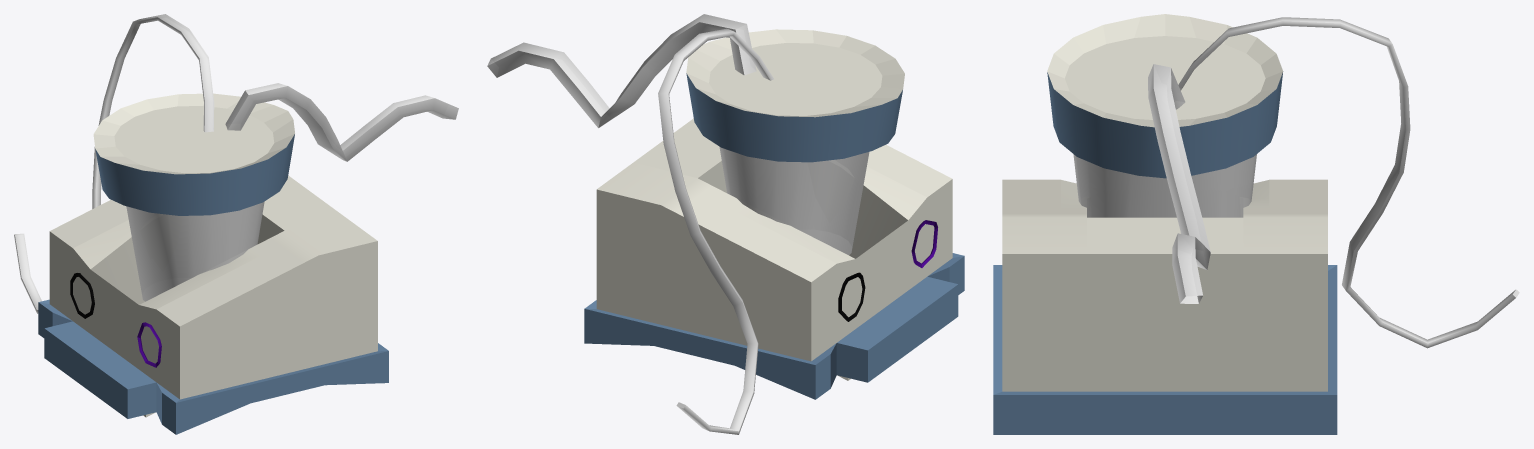
Rendered from aspiradora_secreciones.fbx.
The picture shows the model from 3 angles, left to right: view 1: azimuth 30°, elevation 25°; view 2: azimuth 150°, elevation 25°; view 3: azimuth 270°, elevation 25°; orthographic projection. The views are drawn at different scales.
Visible parts, largest first — view 1: aspirador_secreciones; view 2: aspirador_secreciones; view 3: aspirador_secreciones.
Boxes of the visible parts, box(x1,y1,x2,y2) form: aspirador_secreciones: box(14, 14, 458, 434); aspirador_secreciones: box(487, 14, 964, 434); aspirador_secreciones: box(993, 14, 1519, 434).
Bounding box in the file's own units: 1.45 × 1.11 × 1.39.
